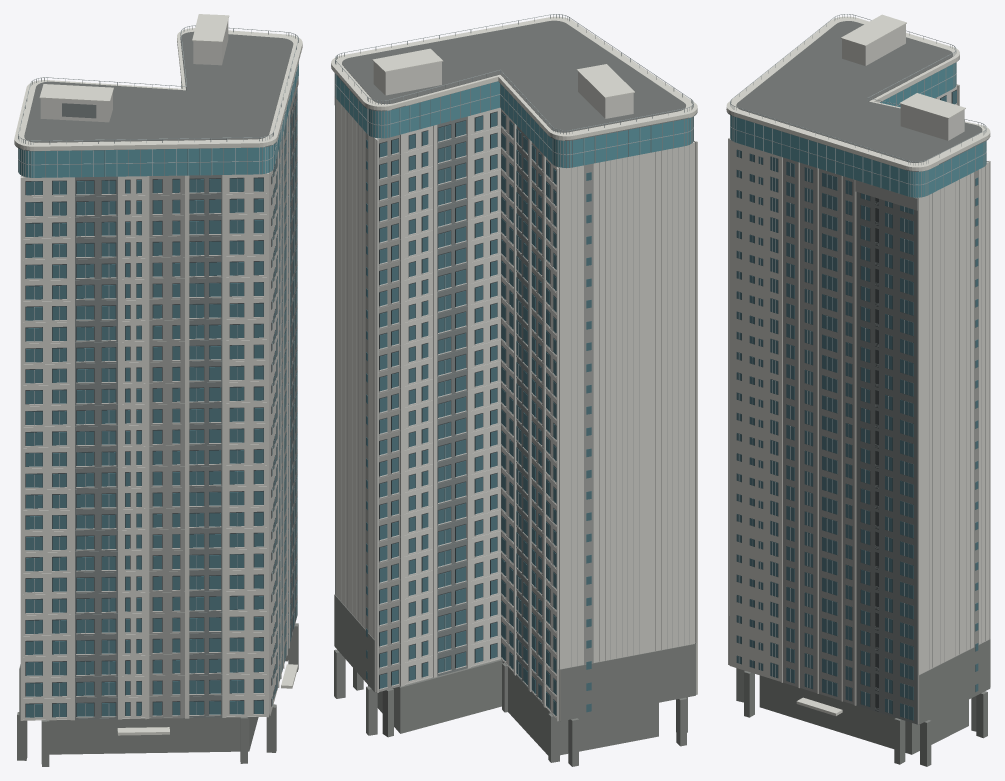
File: bespoke-maple-xi-211.glb
The picture shows the model from 3 angles, left to right: view 1: azimuth 30°, elevation 25°; view 2: azimuth 150°, elevation 25°; view 3: azimuth 270°, elevation 25°; orthographic projection. The views are drawn at different scales.
Parts seen in each view (by area): view 1: 211_retained_numbered_plan_body, 211_end_wall_slit_windows, 211_individual_face_1_graphite, 211_dark_inset_window_reveals, 211_inset_service_roof, 211_end_wall_recess_strips, 211_window_mullions_and_sills001, 211_recessed_stone_pilotis_lobby, 211_entrance_canopy_4, 211_Club_Cloud_glazed_roof_lounge; view 2: 211_retained_numbered_plan_body, 211_end_wall_slit_windows, 211_end_wall_recess_strips, 211_recessed_stone_pilotis_lobby, 211_inset_service_roof, 211_dark_inset_window_reveals, 211_individual_face_1_graphite, 211_Club_Cloud_glazed_roof_lounge, 211_entrance_canopy_4, 211_window_mullions_and_sills001; view 3: 211_retained_numbered_plan_body, 211_end_wall_slit_windows, 211_end_wall_recess_strips, 211_individual_face_1_graphite, 211_inset_service_roof, 211_recessed_stone_pilotis_lobby, 211_dark_inset_window_reveals, 211_window_mullions_and_sills001, 211_Club_Cloud_glazed_roof_lounge, 211_entrance_canopy_4.
Part boxes in pixels (left/top/right/bottom): 211_retained_numbered_plan_body: left=20, top=21, right=289, bottom=720; 211_end_wall_slit_windows: left=26, top=82, right=297, bottom=717; 211_individual_face_1_graphite: left=14, top=42, right=297, bottom=719; 211_dark_inset_window_reveals: left=25, top=96, right=297, bottom=717; 211_inset_service_roof: left=24, top=31, right=293, bottom=142; 211_end_wall_recess_strips: left=149, top=76, right=298, bottom=718; 211_window_mullions_and_sills001: left=18, top=25, right=298, bottom=717; 211_recessed_stone_pilotis_lobby: left=17, top=623, right=298, bottom=766; 211_entrance_canopy_4: left=14, top=14, right=302, bottom=735; 211_Club_Cloud_glazed_roof_lounge: left=18, top=64, right=298, bottom=177; 211_retained_numbered_plan_body: left=335, top=62, right=697, bottom=721; 211_end_wall_slit_windows: left=366, top=112, right=591, bottom=715; 211_end_wall_recess_strips: left=334, top=96, right=689, bottom=704; 211_recessed_stone_pilotis_lobby: left=334, top=594, right=696, bottom=766; 211_inset_service_roof: left=342, top=20, right=685, bottom=132; 211_dark_inset_window_reveals: left=379, top=111, right=556, bottom=715; 211_individual_face_1_graphite: left=333, top=71, right=697, bottom=688; 211_Club_Cloud_glazed_roof_lounge: left=335, top=74, right=693, bottom=167; 211_entrance_canopy_4: left=331, top=16, right=697, bottom=140; 211_window_mullions_and_sills001: left=334, top=14, right=693, bottom=675; 211_retained_numbered_plan_body: left=728, top=24, right=990, bottom=723; 211_end_wall_slit_windows: left=736, top=90, right=978, bottom=720; 211_end_wall_recess_strips: left=783, top=157, right=988, bottom=704; 211_individual_face_1_graphite: left=726, top=58, right=990, bottom=724; 211_inset_service_roof: left=736, top=21, right=982, bottom=162; 211_recessed_stone_pilotis_lobby: left=729, top=616, right=990, bottom=766; 211_dark_inset_window_reveals: left=736, top=89, right=956, bottom=720; 211_window_mullions_and_sills001: left=730, top=14, right=986, bottom=718; 211_Club_Cloud_glazed_roof_lounge: left=730, top=62, right=986, bottom=197; 211_entrance_canopy_4: left=726, top=14, right=990, bottom=715.
Bounding box in the file's own units: 48.56 × 93.88 × 35.9.
